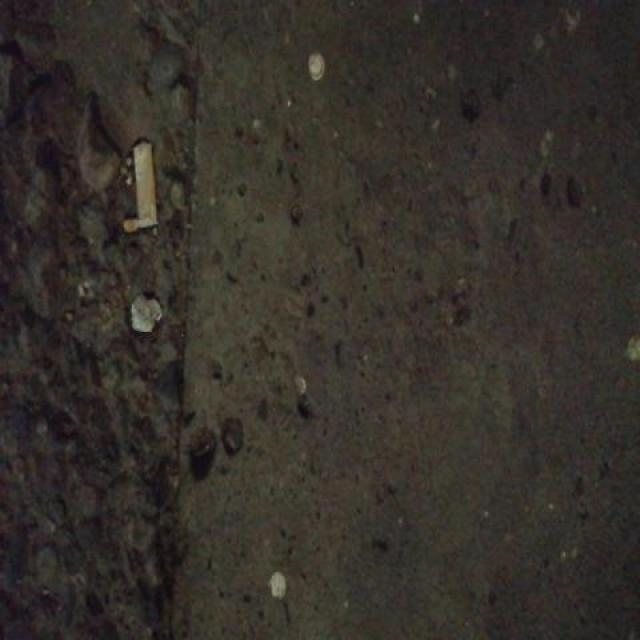non-organic waste: (131, 139, 161, 232)
